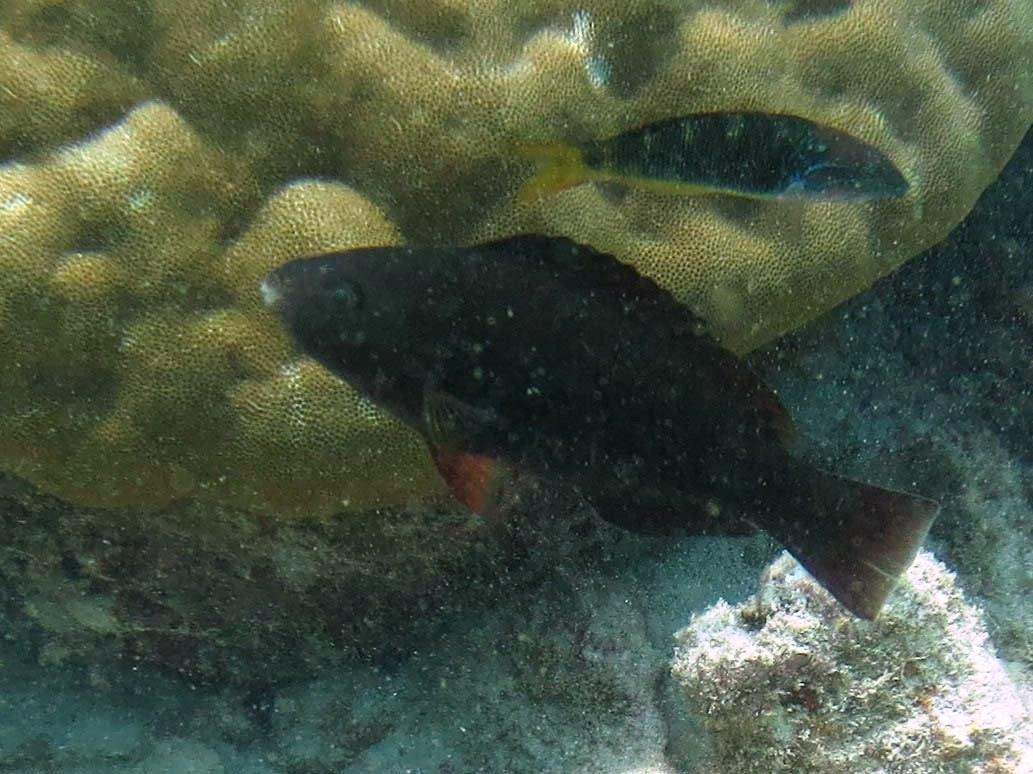Fish: (260, 220, 950, 628)
